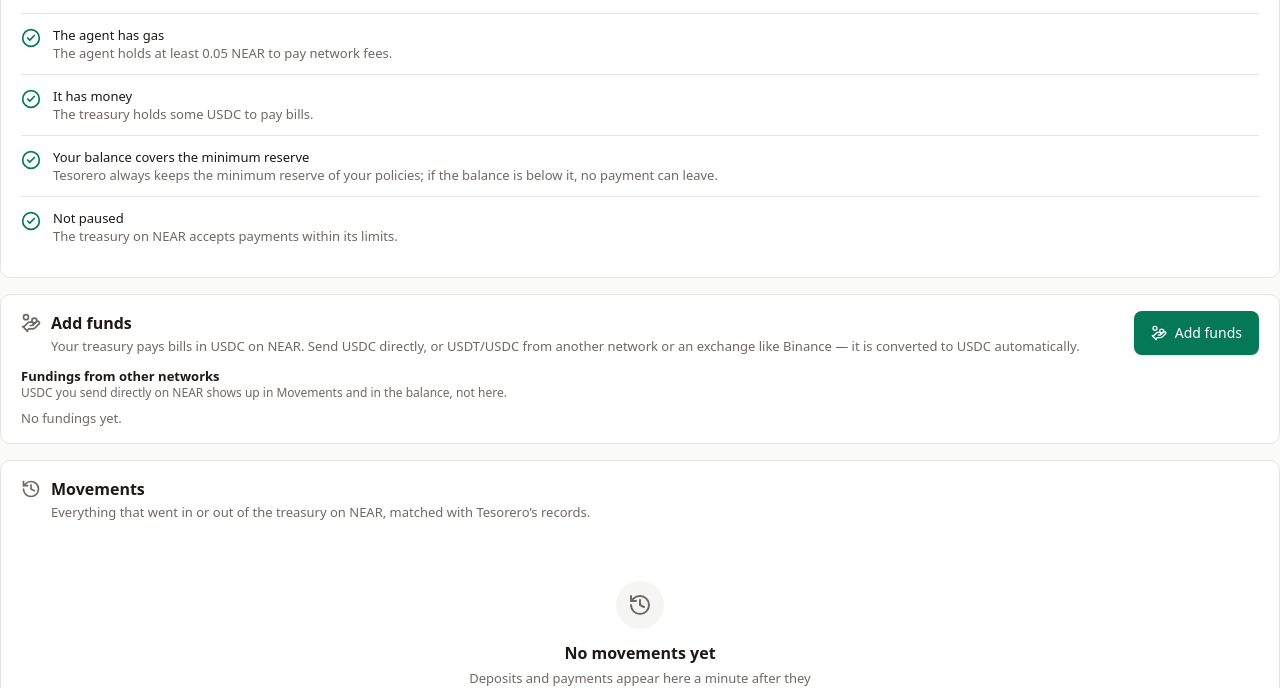
Test: treasury: funding › validates the form before asking for a quote
The image size is (1280, 688).
Later steps or results of the test are not shown.
(page scrolled)
Click the button with test id "fund-button": [1196, 333] box [1134,311,1259,355]
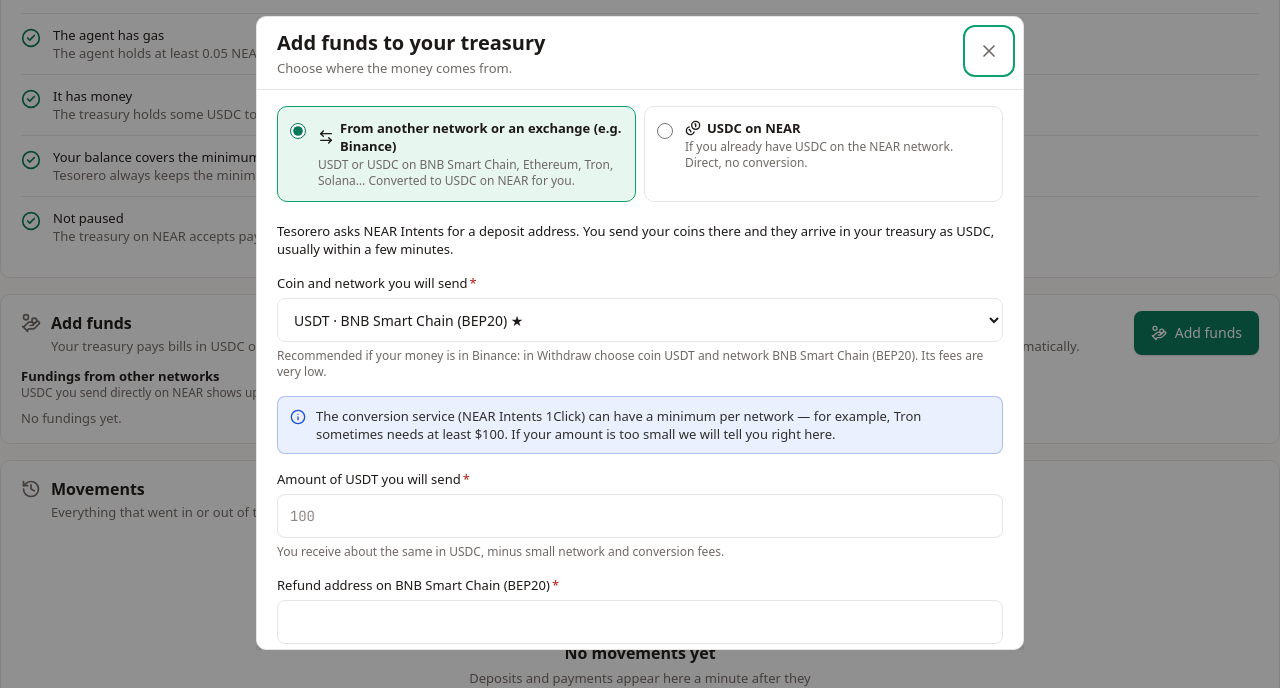
Check: the dropdown with test id "fund-asset" is shown, box [277,298,1003,342]
